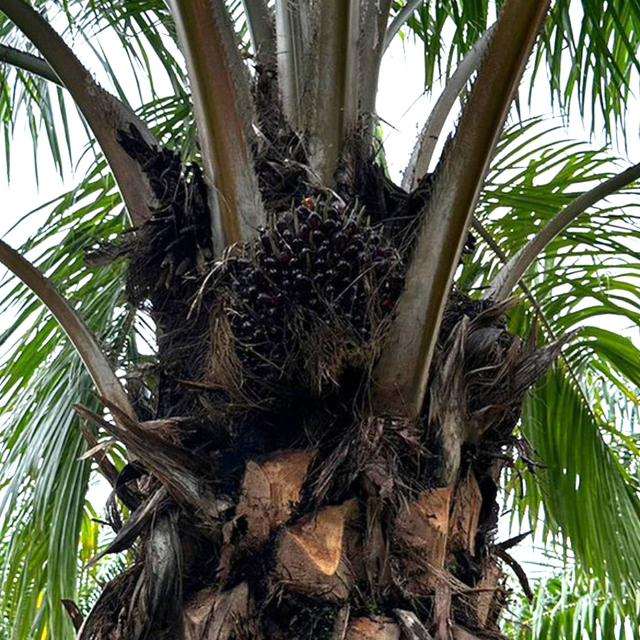ripe: (207, 179, 420, 407)
